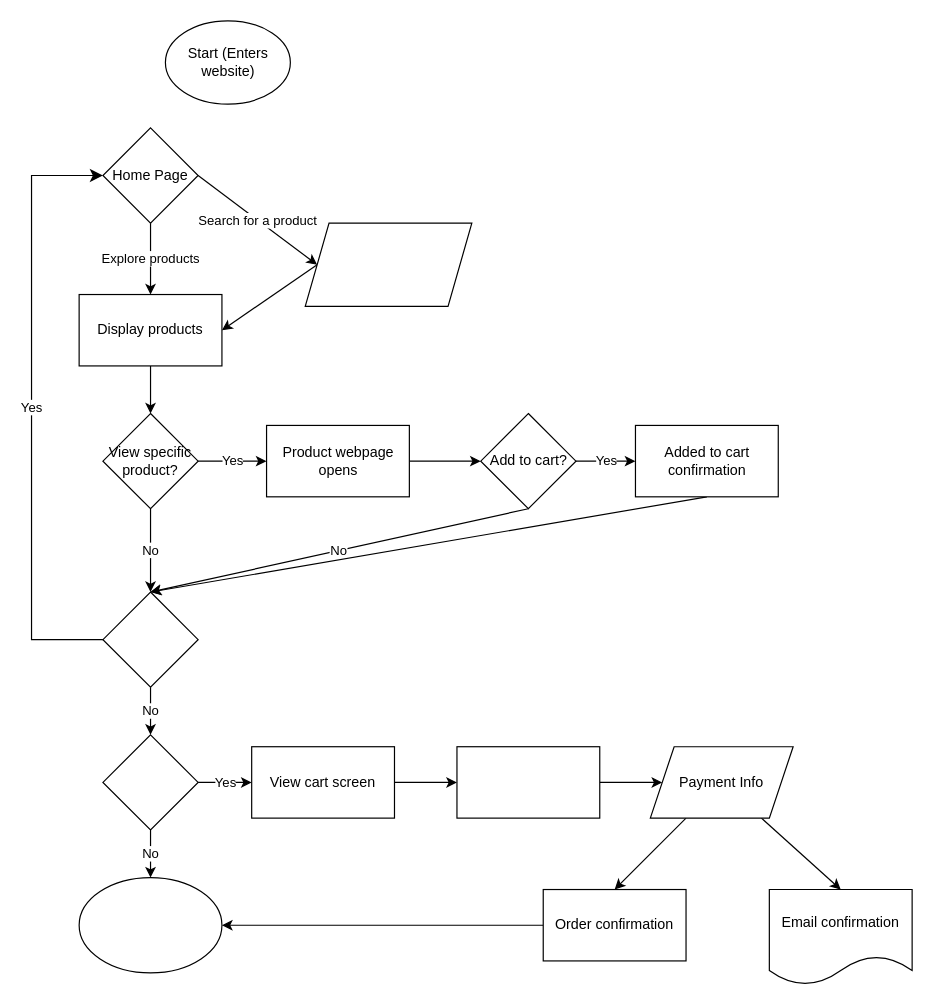
Some shapes in this 933 by 1006 pixel diagram are drawn without their labels. Each missing label, with the box of its shape:
Checkout?: (102, 734, 198, 830)
Continue shopping?: (102, 591, 198, 687)
End (Leave website): (78, 876, 222, 973)
Takes input of search: (304, 222, 472, 306)
View payment: (456, 746, 600, 818)
